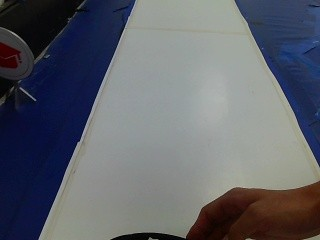school: (0, 22, 34, 86)
